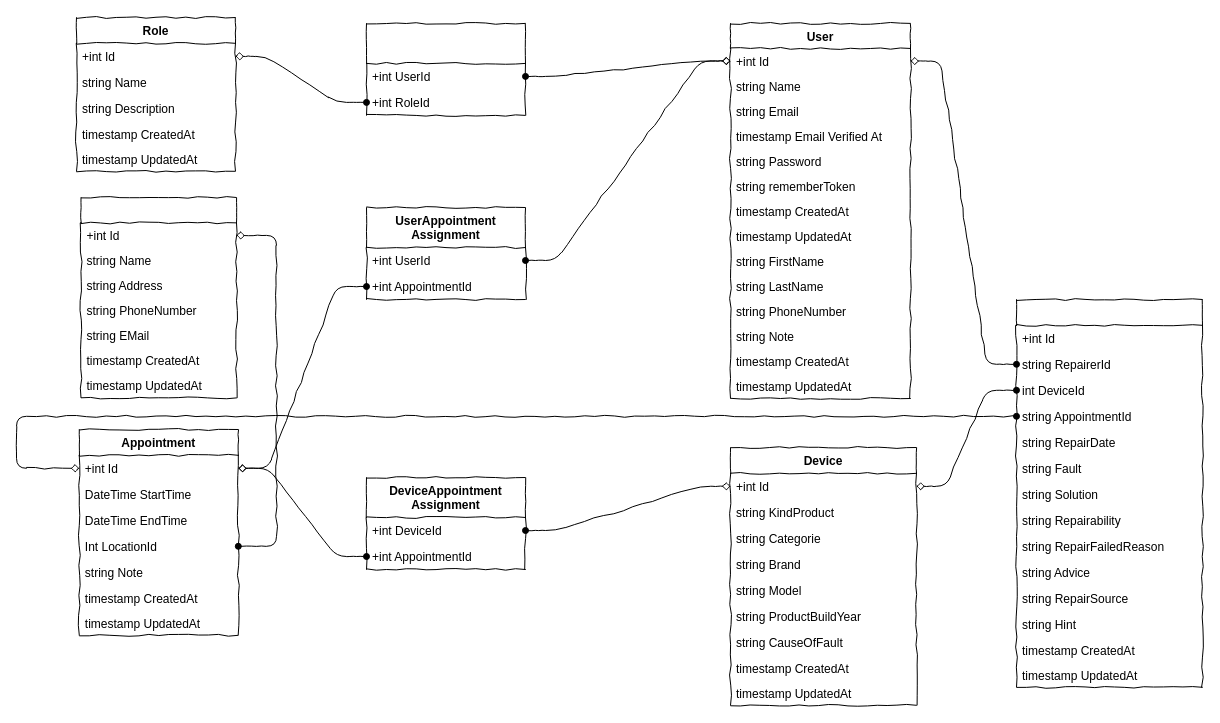
The diagram is 1220 pixels wide and 723 high, and some of its shapes have lost their labels. Here are the shapes that lost their labels. From the top down, the box of each, then its label:
(366, 22, 526, 115): UserRole Assignment
(80, 196, 236, 398): Location
(1016, 298, 1202, 687): RepairDetails
